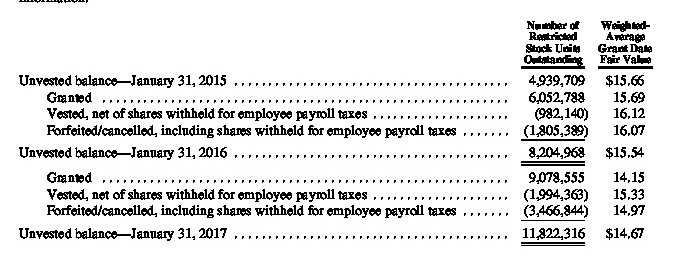table: (0, 0, 677, 268)
